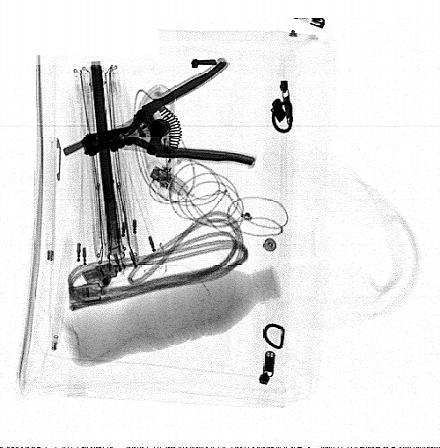Pliers: (79, 60, 258, 166)
